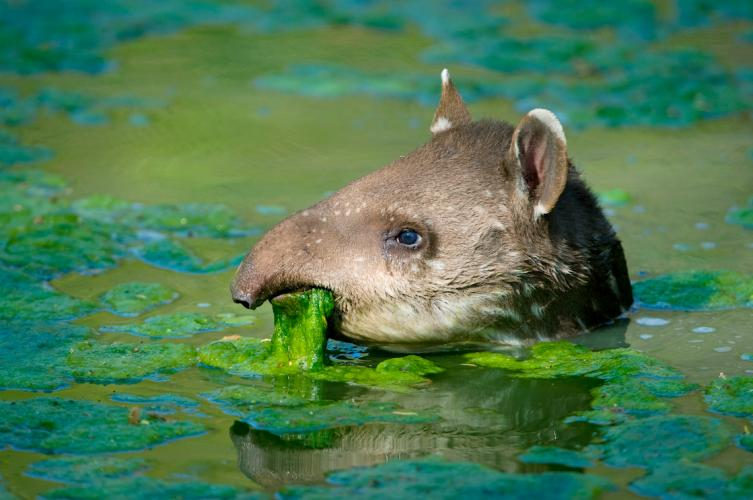Anta: (224, 53, 639, 329)
